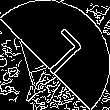L_SW: (26, 27, 84, 83)
